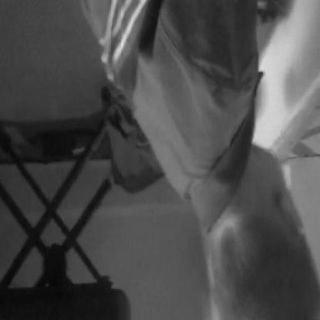other: (98, 106, 168, 193)
